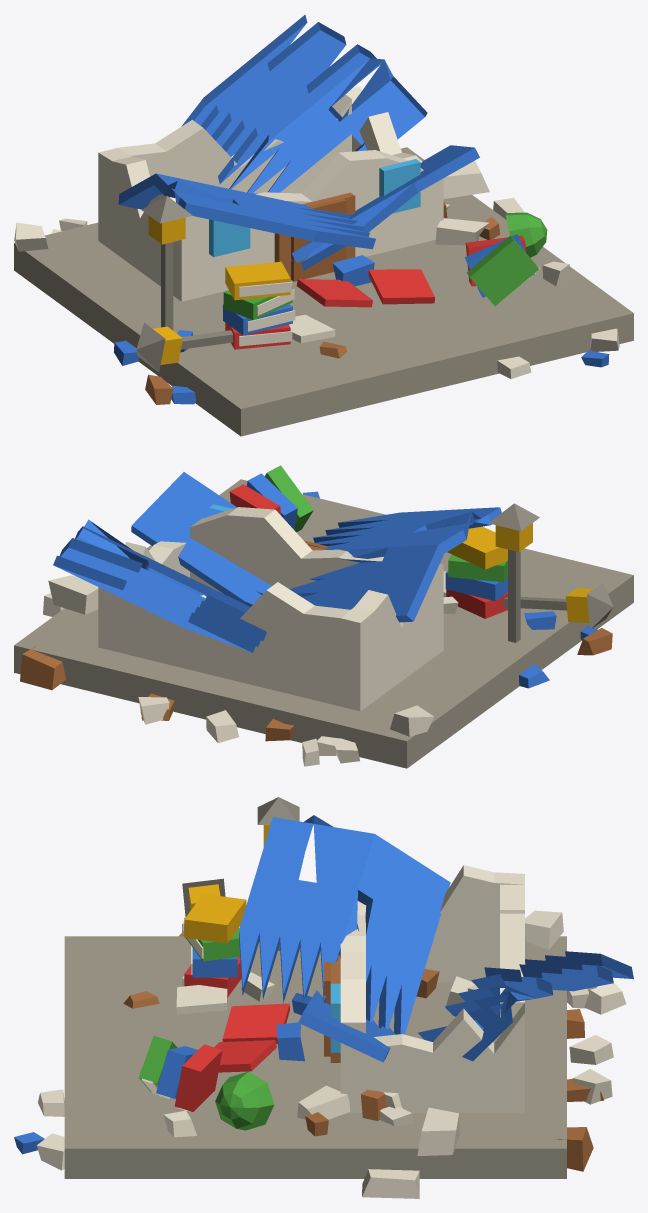
File: library_t1_v3_dmg2.glb
3 views of the same model, one above another, from view 1: azimuth 30°, elevation 25°; view 2: azimuth 150°, elevation 25°; view 3: azimuth 270°, elevation 25° (orthographic). The views are drawn at different scales.
Parts seen in each view (by area): view 1: library_t1_v3_dmg2; view 2: library_t1_v3_dmg2; view 3: library_t1_v3_dmg2.
Part boxes in pixels (x1=…): library_t1_v3_dmg2: x1=14, y1=15, x2=633, y2=436; library_t1_v3_dmg2: x1=14, y1=465, x2=633, y2=768; library_t1_v3_dmg2: x1=14, y1=797, x2=633, y2=1198.
Bounding box in the file's own units: 0.7227 × 0.24 × 0.7405.
1 material, 1 textured.
